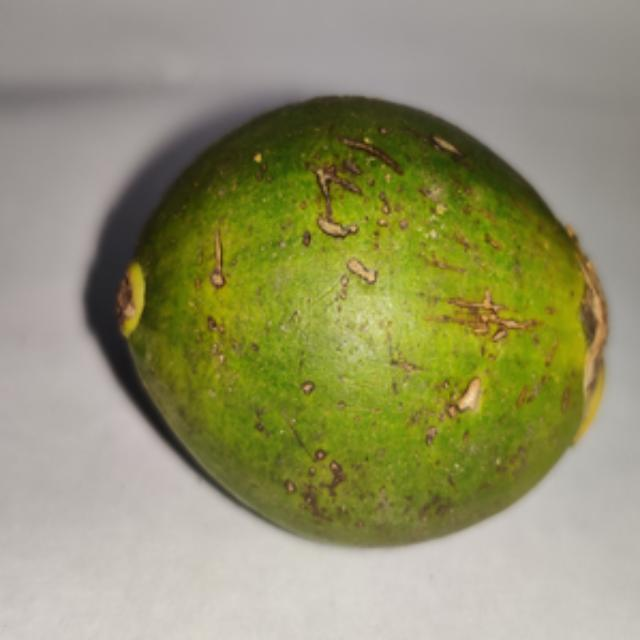good: (105, 96, 606, 544)
